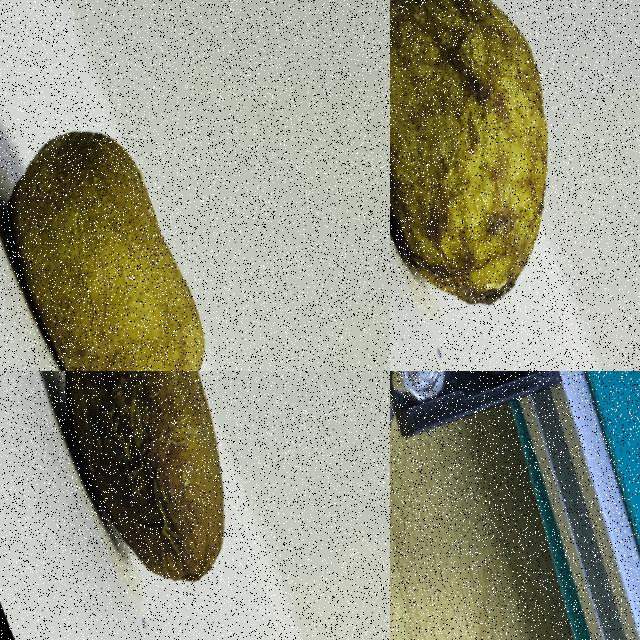Fine_cocoabeans: (0, 29, 296, 370), (0, 371, 372, 639), (390, 0, 639, 370), (502, 371, 639, 504)
